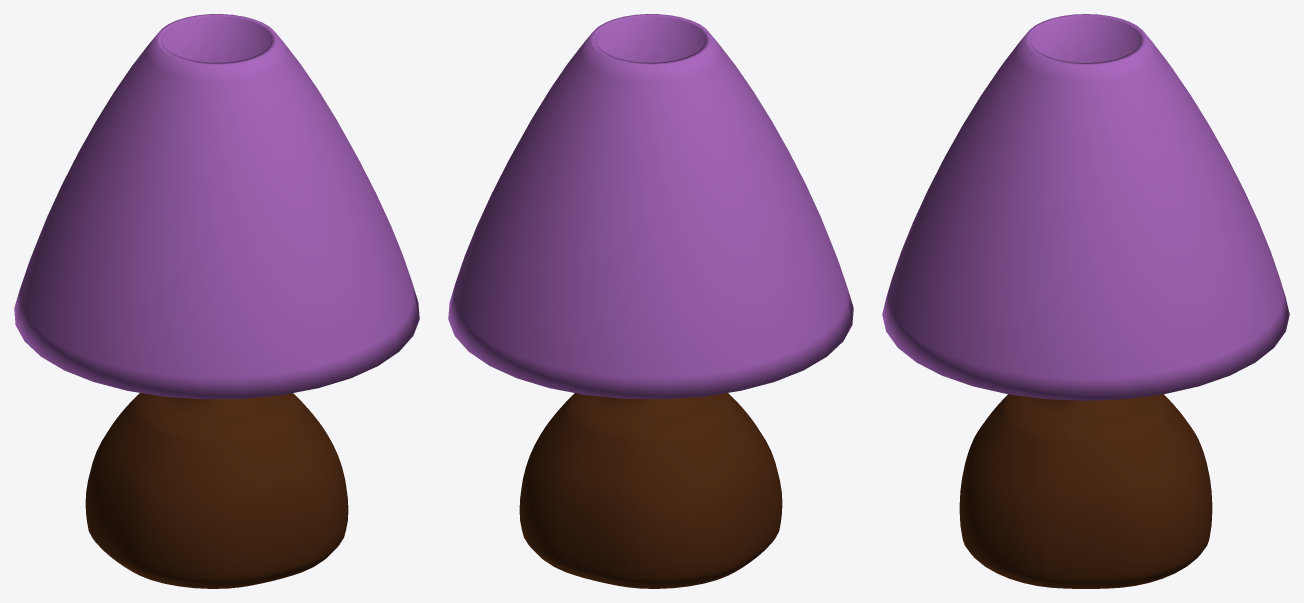
The model's file is table_lamp.glb.
The picture shows the model from 3 angles, left to right: view 1: azimuth 30°, elevation 25°; view 2: azimuth 150°, elevation 25°; view 3: azimuth 270°, elevation 25°; orthographic projection.
Parts seen in each view (by area): view 1: Object_5, Object_3; view 2: Object_5, Object_3; view 3: Object_5, Object_3.
Boxes of the visible parts, box(x1,y1,x2,y2) form: Object_5: box(14, 14, 419, 399); Object_3: box(85, 393, 348, 588); Object_5: box(448, 14, 853, 399); Object_3: box(519, 393, 782, 588); Object_5: box(882, 14, 1289, 400); Object_3: box(959, 394, 1212, 588).
Size of the model in its own units: 0.381 by 0.5206 by 0.381.
